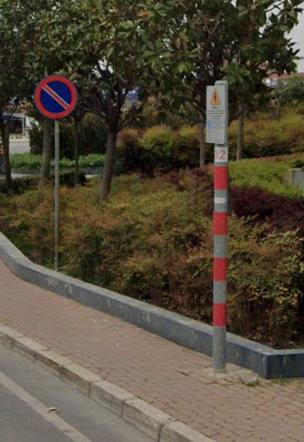nopark: (33, 75, 79, 120)
